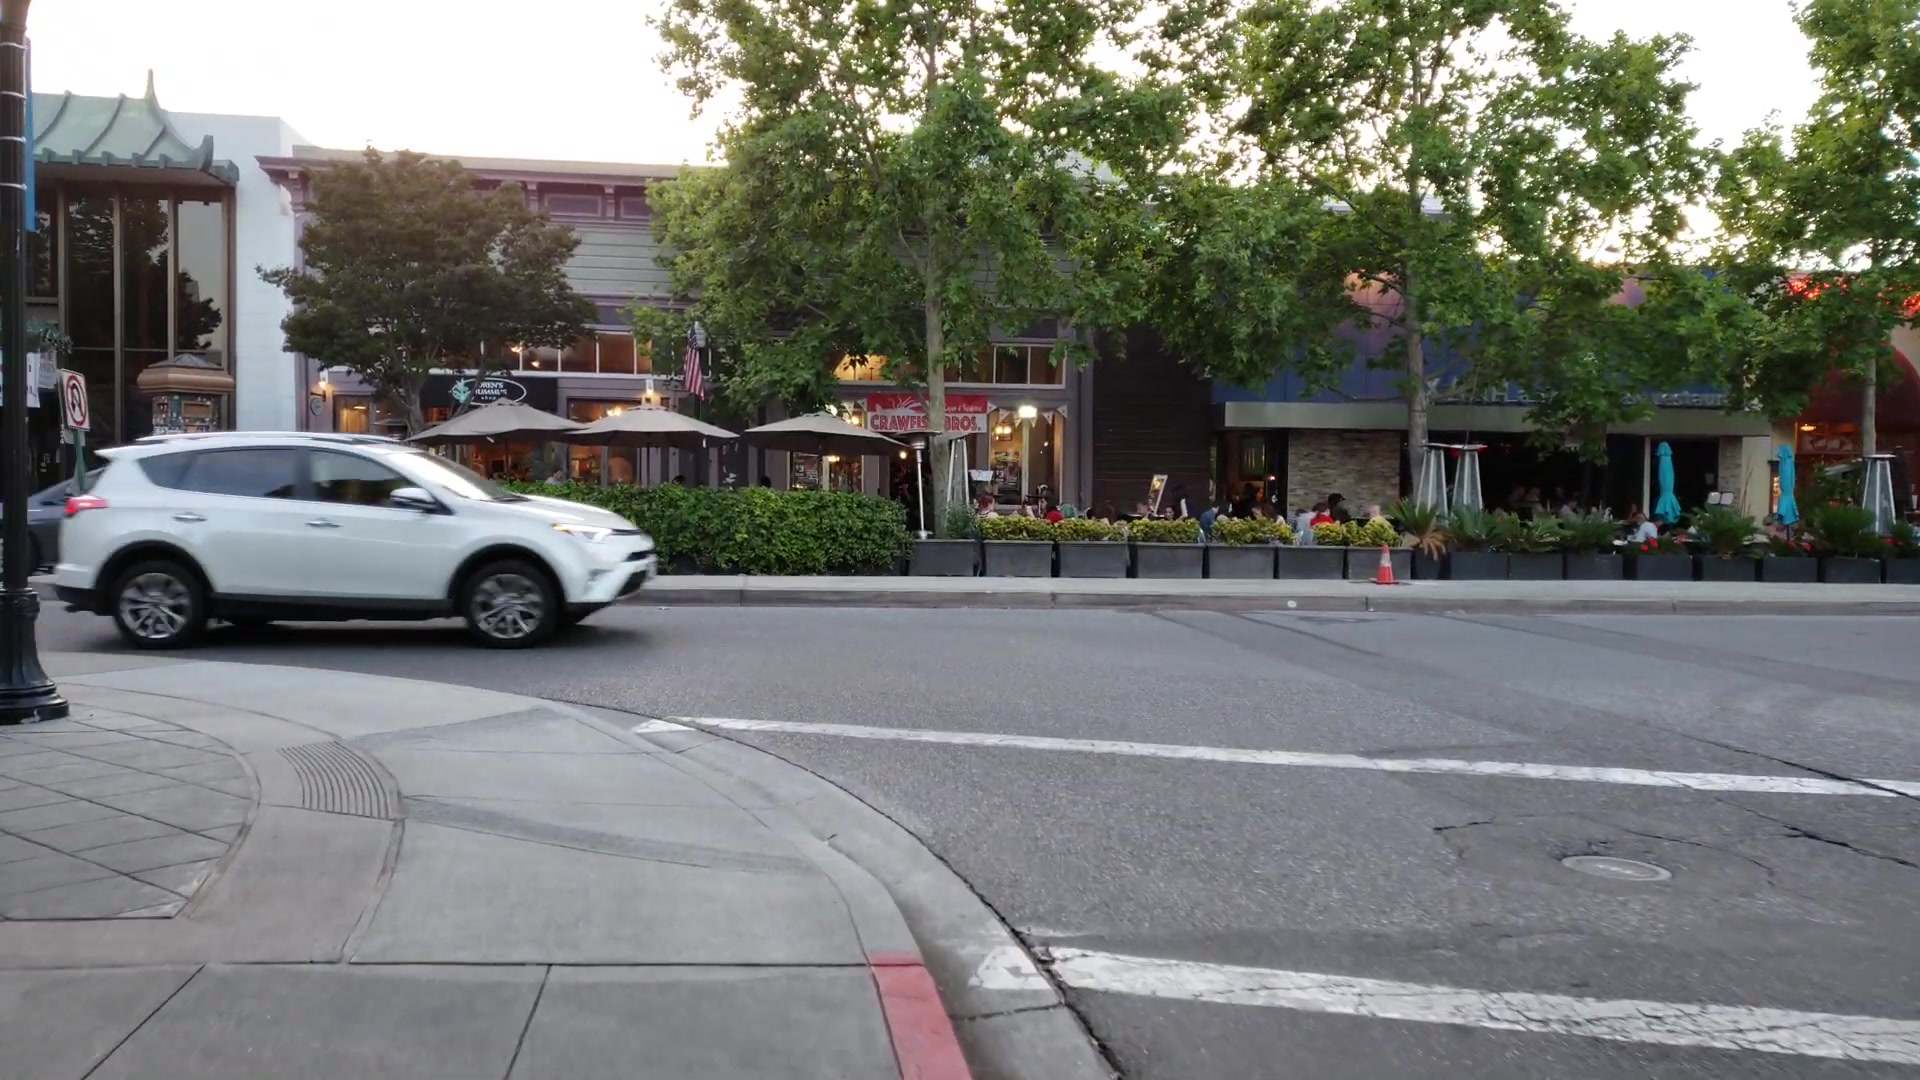vehicle: (55, 429, 662, 644)
